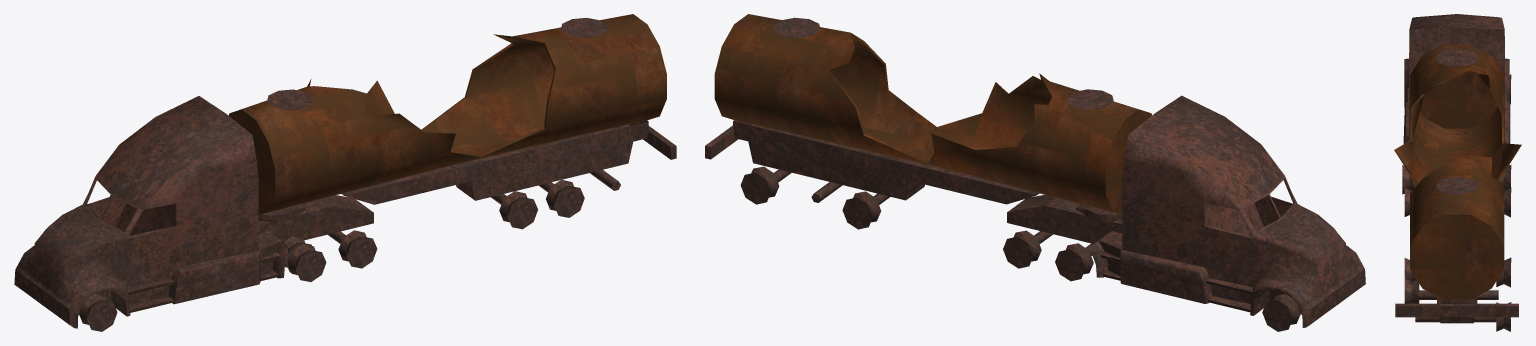
File: SM_Truck.FBX
3 views of the same model, side by side, from view 1: azimuth 30°, elevation 25°; view 2: azimuth 150°, elevation 25°; view 3: azimuth 270°, elevation 25° (orthographic). The views are drawn at different scales.
Visible parts, largest first — view 1: SM_Truck_cistern, SM_Truck; view 2: SM_Truck_cistern, SM_Truck; view 3: SM_Truck_cistern, SM_Truck.
Boxes of the visible parts, x1,y1,x2,y2 form: SM_Truck_cistern: (228,14,676,229); SM_Truck: (14,96,377,331); SM_Truck_cistern: (705,14,1151,229); SM_Truck: (1003,95,1365,331); SM_Truck_cistern: (1394,44,1521,331); SM_Truck: (1402,14,1511,217).
Size of the model in its own units: 710 by 147 by 181.
